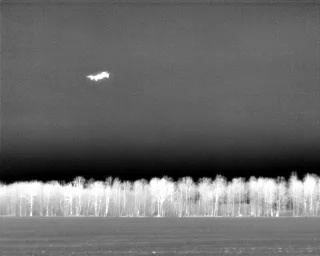DRONE: (83, 66, 114, 87)
